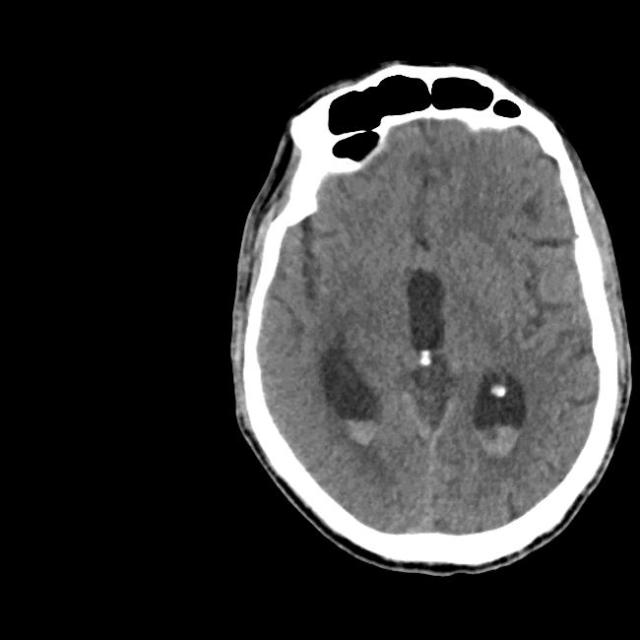lesion: (228, 60, 632, 575)
